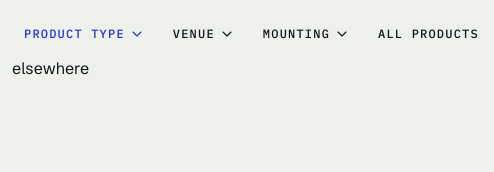
MegaMenu › closes on a click outside the menu
Click the button "Product type".
click(84, 34)  # box 12,12 -> 157,56
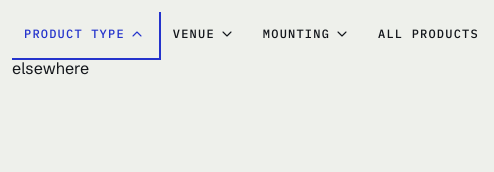
Click the text "elsewhere".
click(51, 68)  # box 12,58 -> 89,78
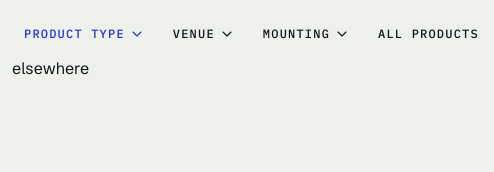
Expected: the button "Product type" is collapsed, 12,12 -> 157,56
